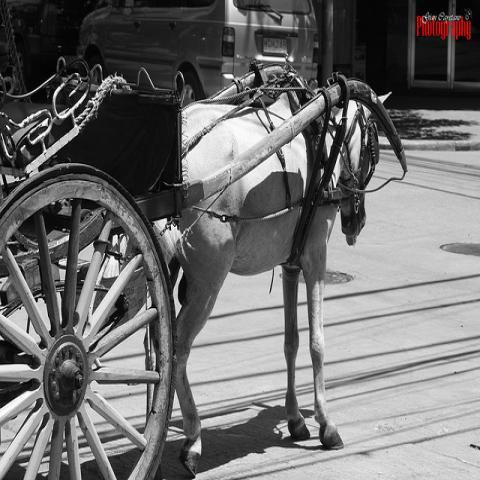car: (78, 2, 318, 100)
